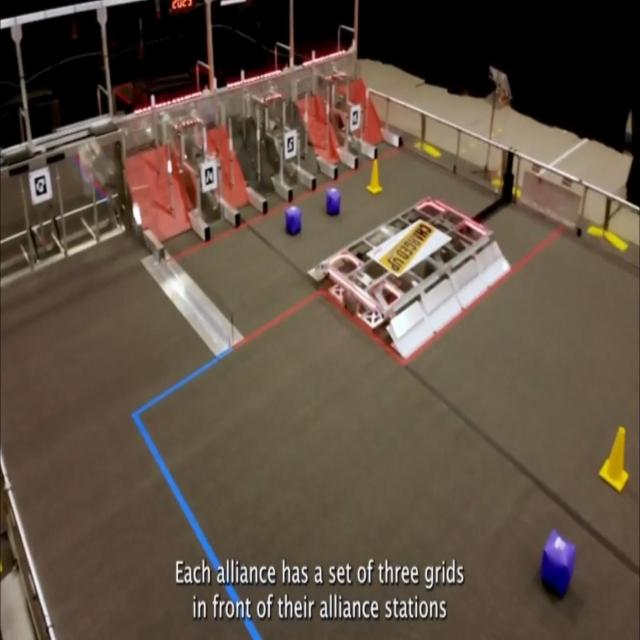frc_cone: (598, 427, 630, 493), (366, 159, 382, 195)
frc_cube: (541, 530, 575, 596), (285, 204, 302, 235), (325, 188, 342, 217)
